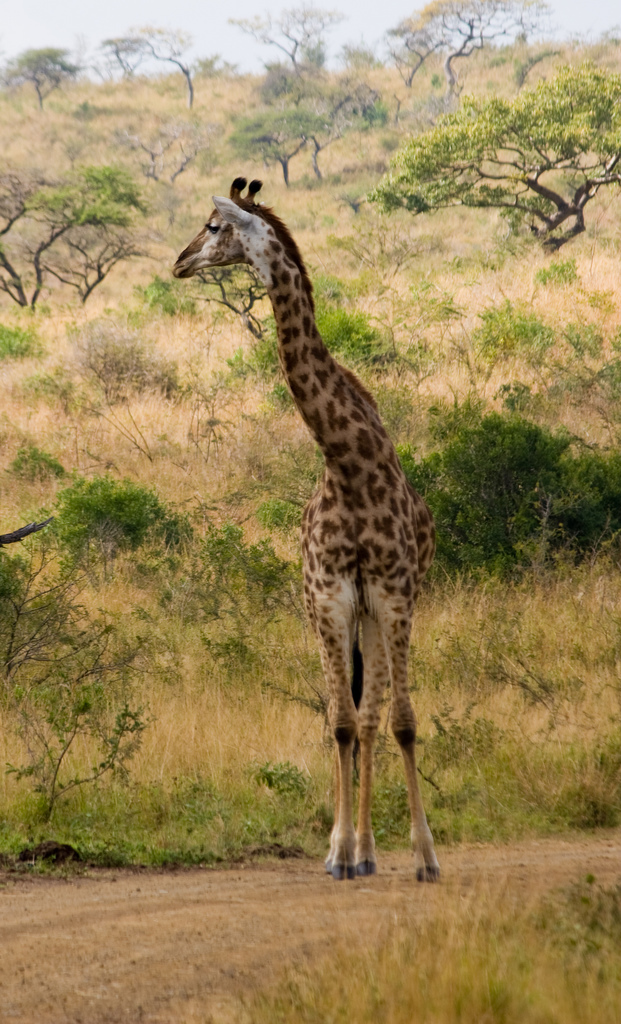giraffe: (172, 177, 494, 927)
